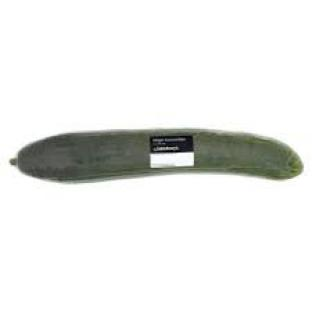Cucumber: (12, 129, 302, 181)
